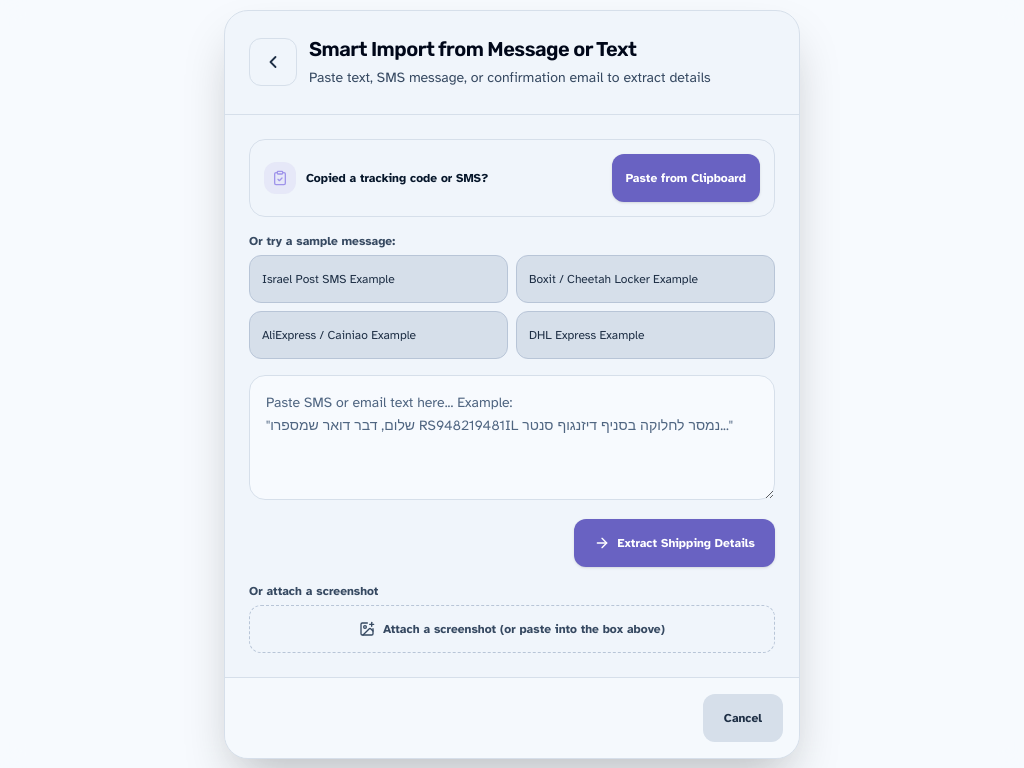
SmartImportModal — "this wasn't right" report › resets the reported state when a new parse runs
Type "Tracking RS948219483IL arrived" into the text box at (512, 437), box [249,374,775,499]
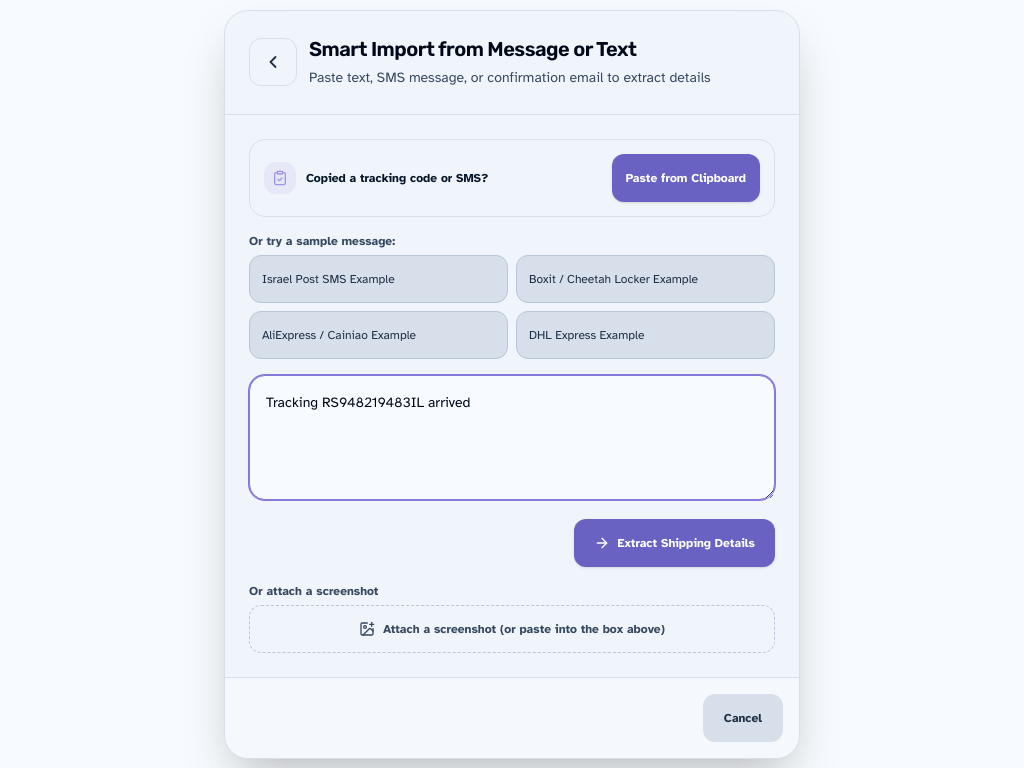
Click the button "Extract Shipping Details" at (674, 542), box [574,518,775,566]
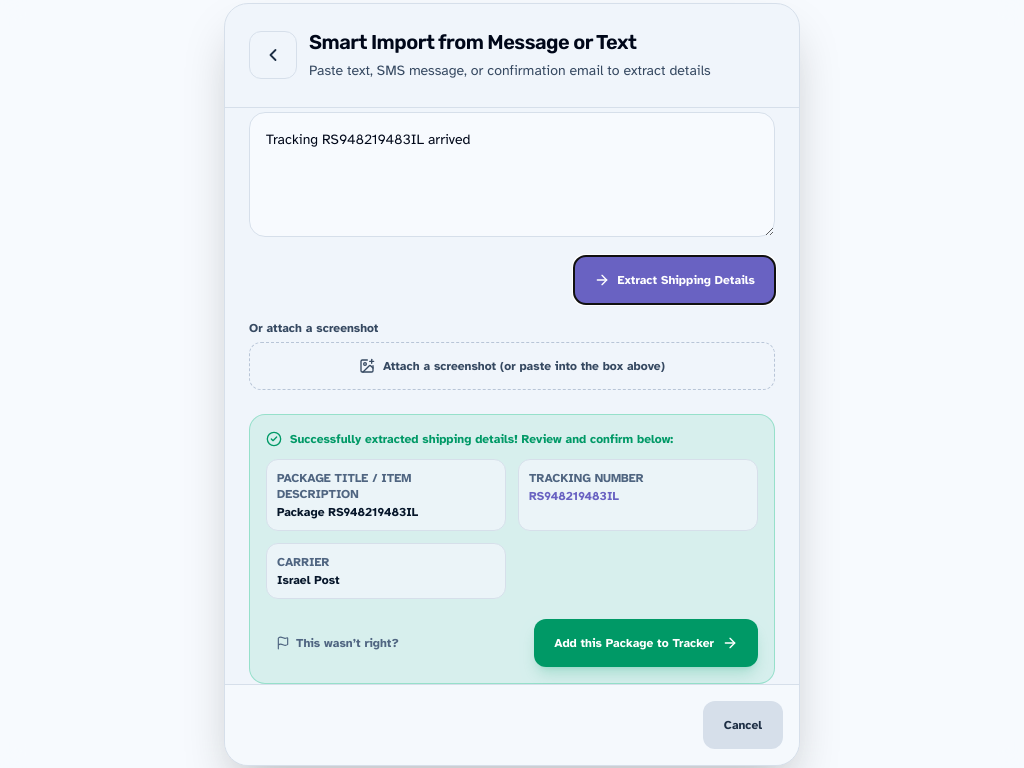
Result: the text "RS948219483IL" is shown at [529,488,619,502]
Click the button "This wasn’t right?" at (337, 642), box [266,618,409,666]
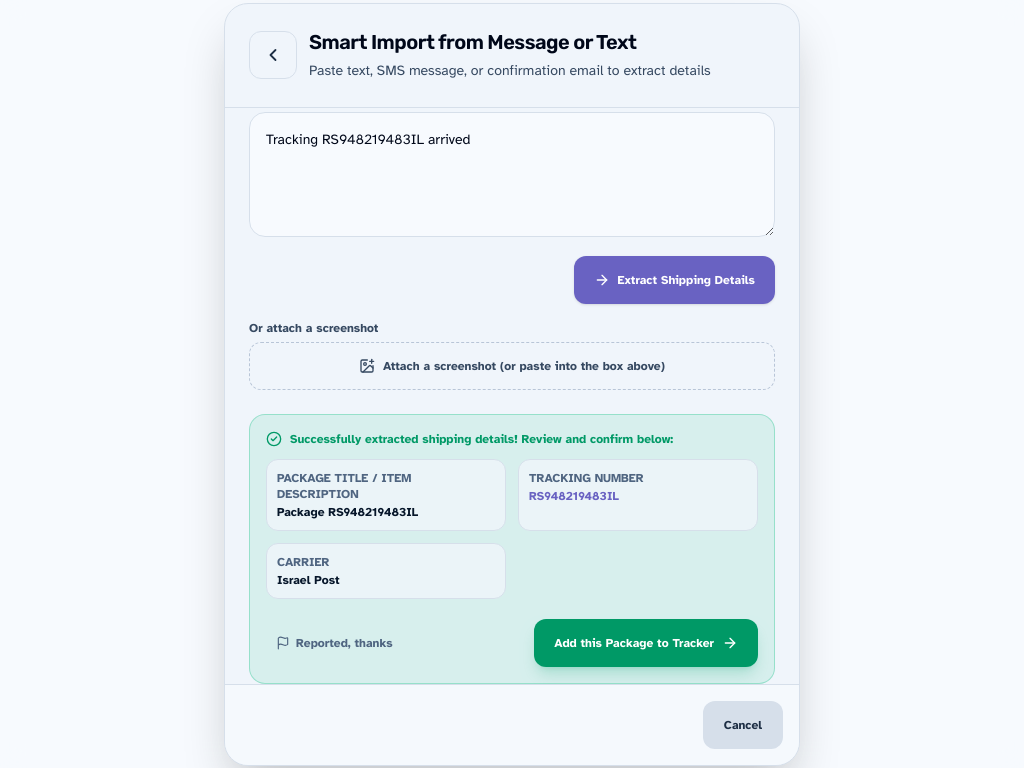
Result: the button "Reported, thanks" is shown at [266,618,403,666]
Replace the text in the text box with "Tracking RR123456785IL from Israel Post arrived." at (512, 174), box [249,111,775,236]
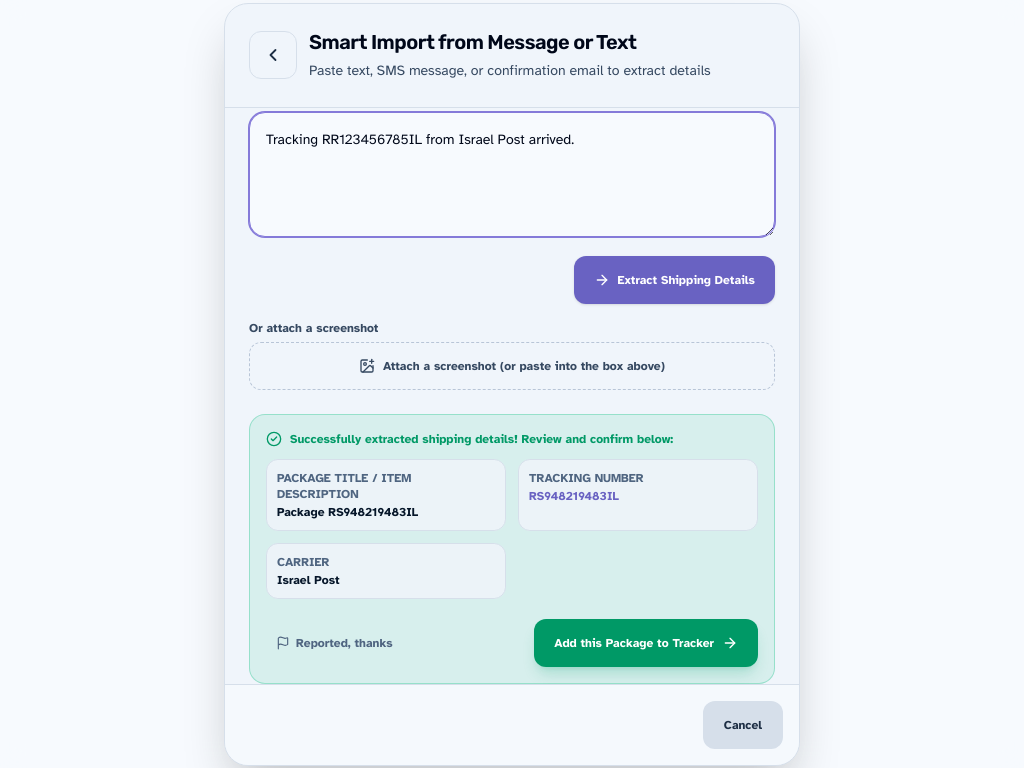
Click the button "Extract Shipping Details" at (674, 279), box [574,255,775,303]
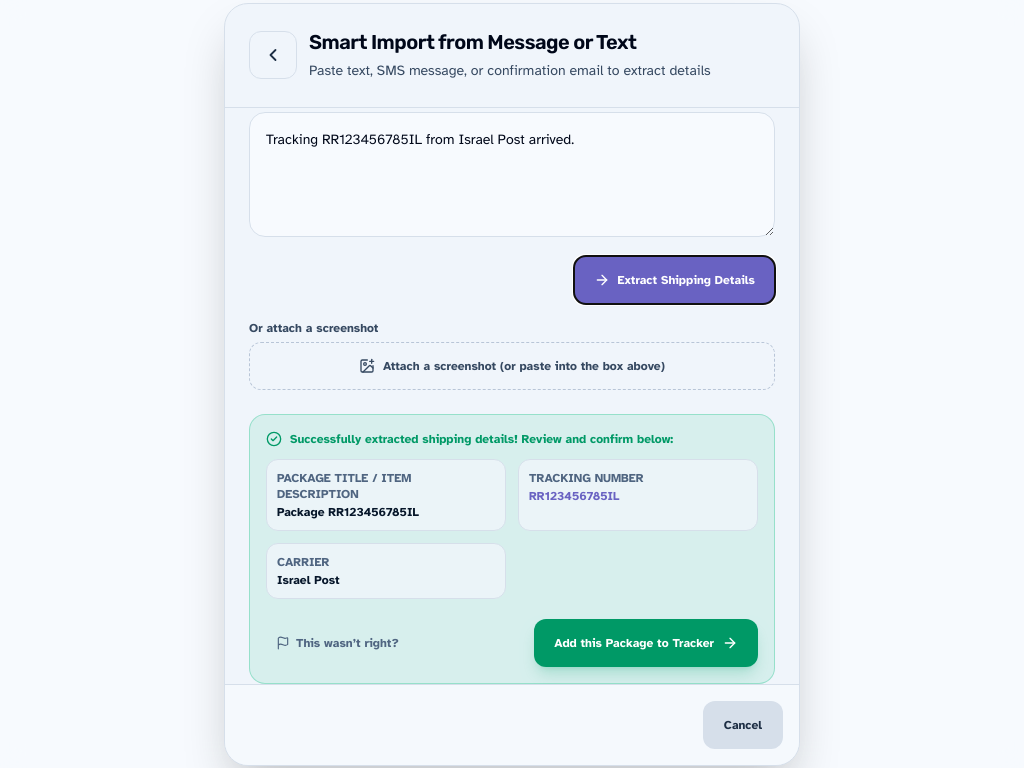
Result: the button "This wasn’t right?" is shown at [266,618,409,666]
